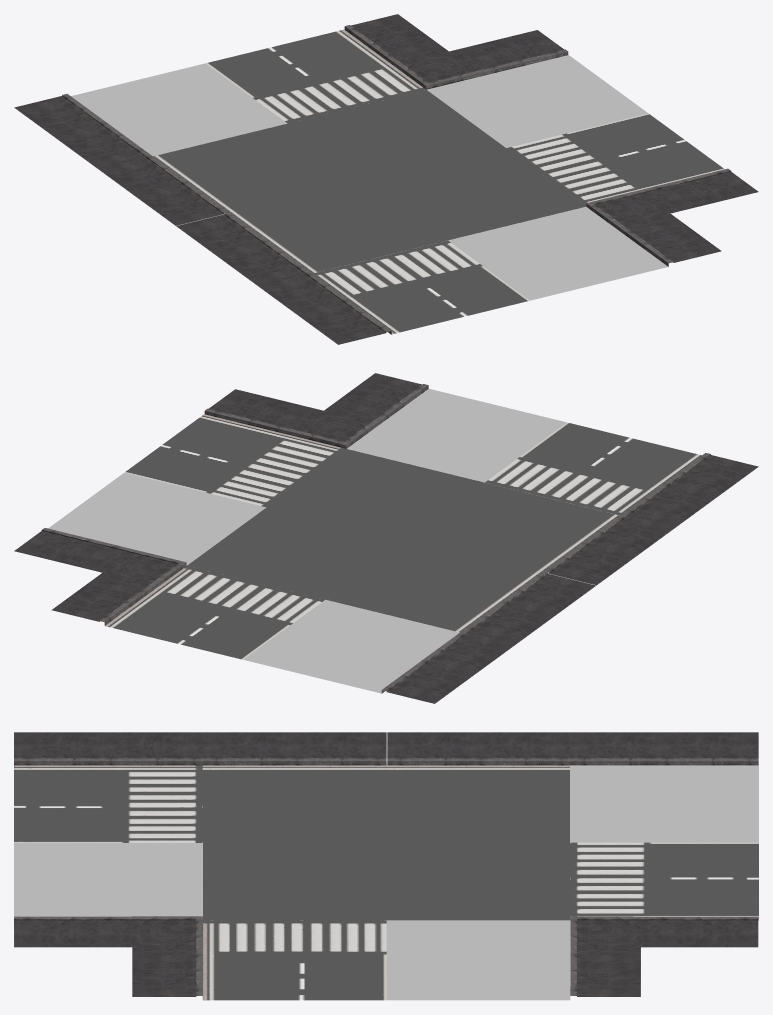
Rendered from 4 lines T intersection.FBX.
The picture shows the model from 3 angles, top to bottom: view 1: azimuth 30°, elevation 25°; view 2: azimuth 150°, elevation 25°; view 3: azimuth 270°, elevation 25°; orthographic projection. The views are drawn at different scales.
Parts seen in each view (by area): view 1: Object070; view 2: Object070; view 3: Object070.
Boxes of the visible parts, x1=… form: Object070: x1=14, y1=14, x2=758, y2=344; Object070: x1=14, y1=373, x2=758, y2=703; Object070: x1=14, y1=732, x2=758, y2=1000.
Size of the model in its own units: 39.91 by 0.3187 by 47.44.
